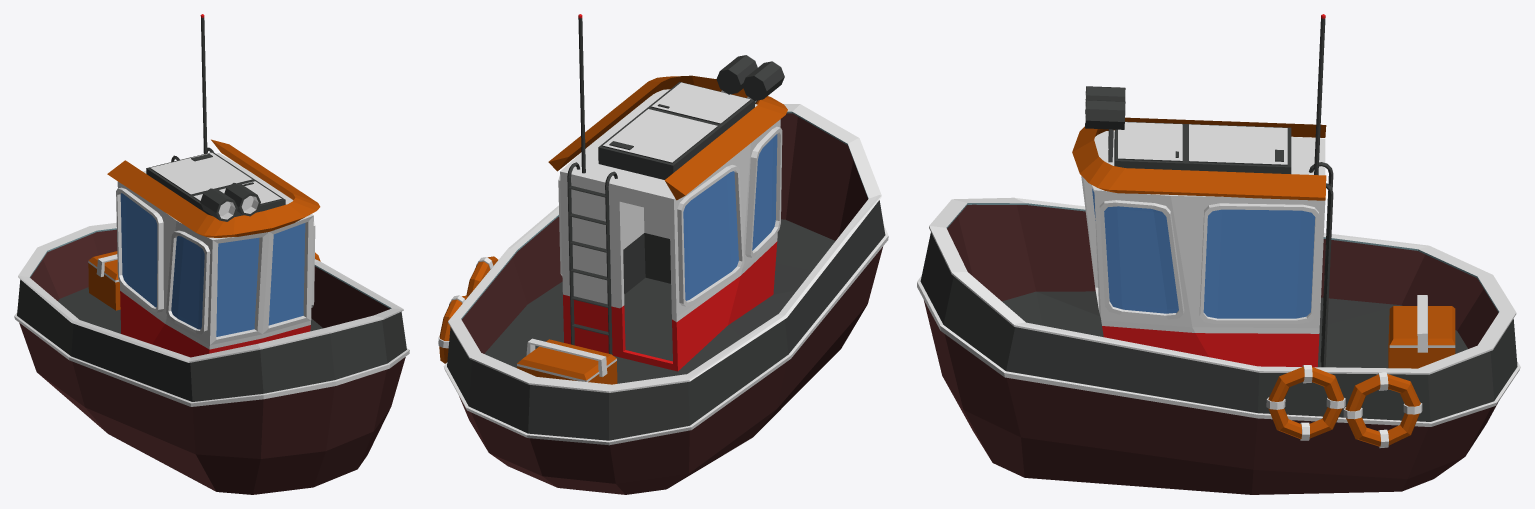
The model's file is Boat_1.fbx.
3 views of the same model, side by side, from view 1: azimuth 30°, elevation 25°; view 2: azimuth 150°, elevation 25°; view 3: azimuth 270°, elevation 25° (orthographic). The views are drawn at different scales.
Parts seen in each view (by area): view 1: boat; view 2: boat; view 3: boat.
Part boxes in pixels (x1,y1,x2,y2): boat: [14, 14, 409, 494]; boat: [438, 14, 888, 494]; boat: [917, 14, 1520, 494].
Size of the model in its own units: 217 by 353 by 293.
